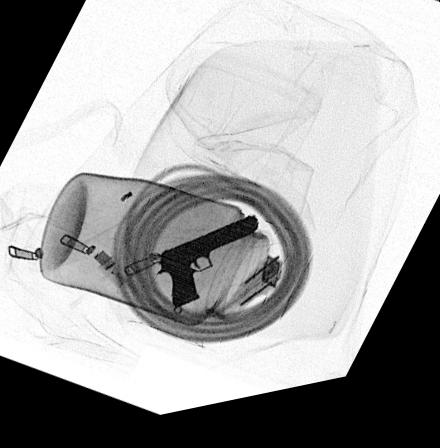Gun: (154, 226, 255, 316)
